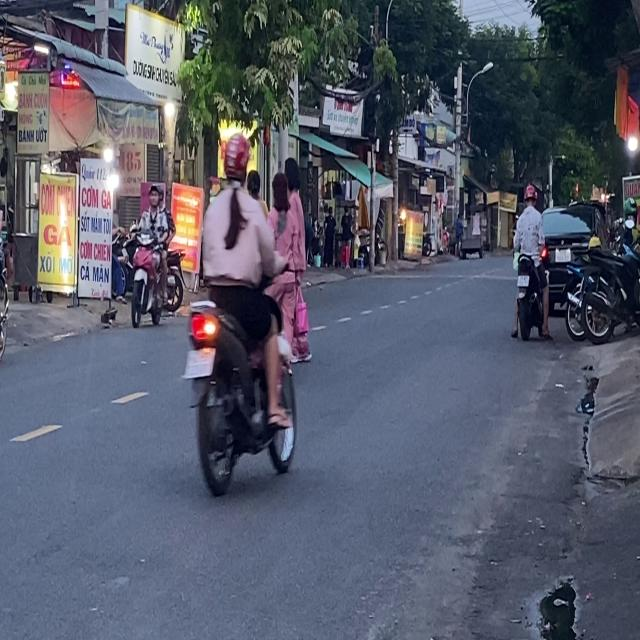helmet: (221, 132, 251, 186), (523, 183, 537, 206)
licenseplate: (182, 129, 303, 500), (510, 182, 552, 340), (0, 173, 11, 365)
nohelmet: (184, 348, 216, 376), (517, 274, 529, 286)
